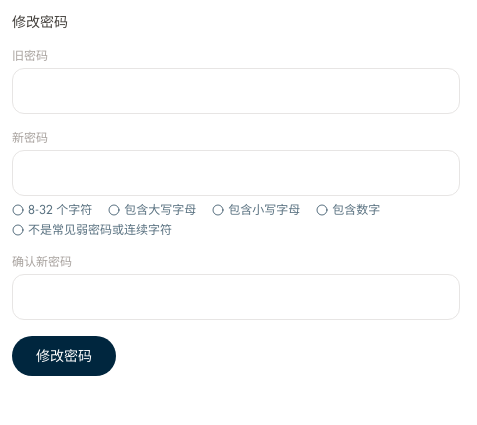
SecurityPanel › PASSWORD_NOT_SET 时切换到短信验证码设置流程
Type "OldPass123" into the password field labelled "旧密码".
click(236, 91); type("OldPass123")  # box [12,68,460,114]
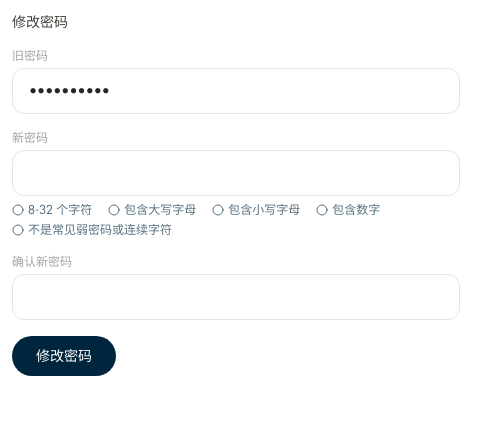
Type "Nihplod2026X" into the password field labelled "新密码".
click(236, 173); type("Nihplod2026X")  # box [12,150,460,196]
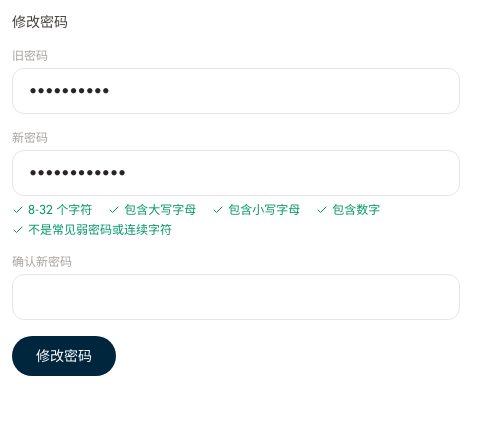
Type "Nihplod2026X" into the password field labelled "确认新密码".
click(236, 297); type("Nihplod2026X")  # box [12,274,460,320]
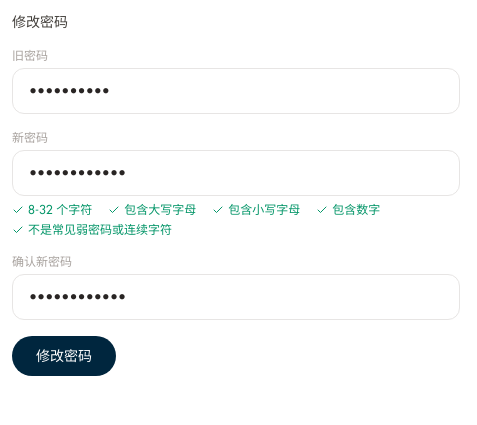
Click the button "修改密码".
click(64, 356)  # box [12,336,116,376]
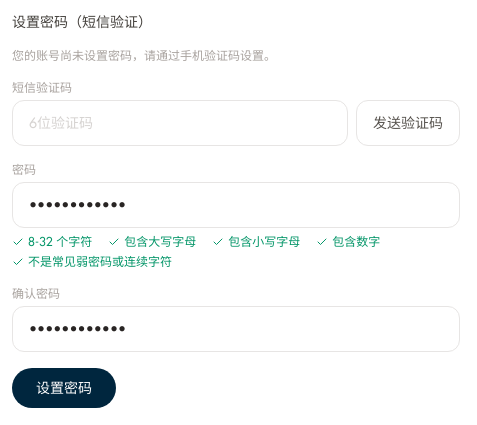
Check: the field labelled "短信验证码" is shown, box [12,100,348,146]
